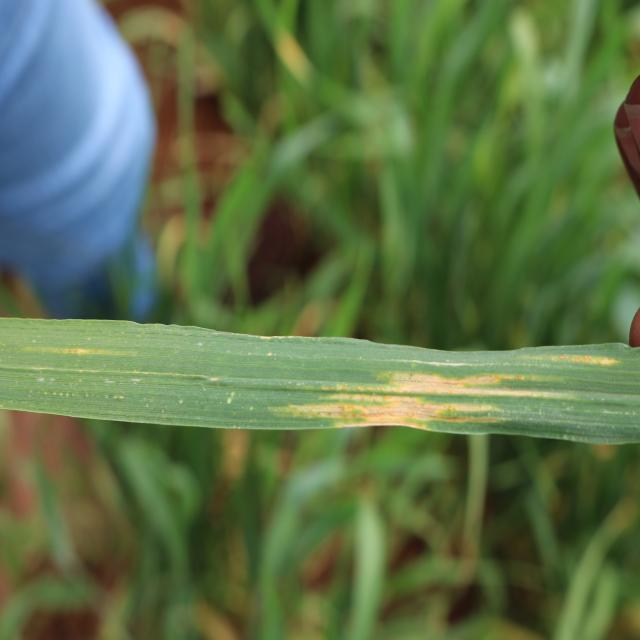Stripe Rust: (291, 403, 441, 425), (454, 374, 534, 395), (393, 371, 447, 394), (333, 392, 412, 404), (557, 352, 608, 367), (326, 383, 386, 393)
